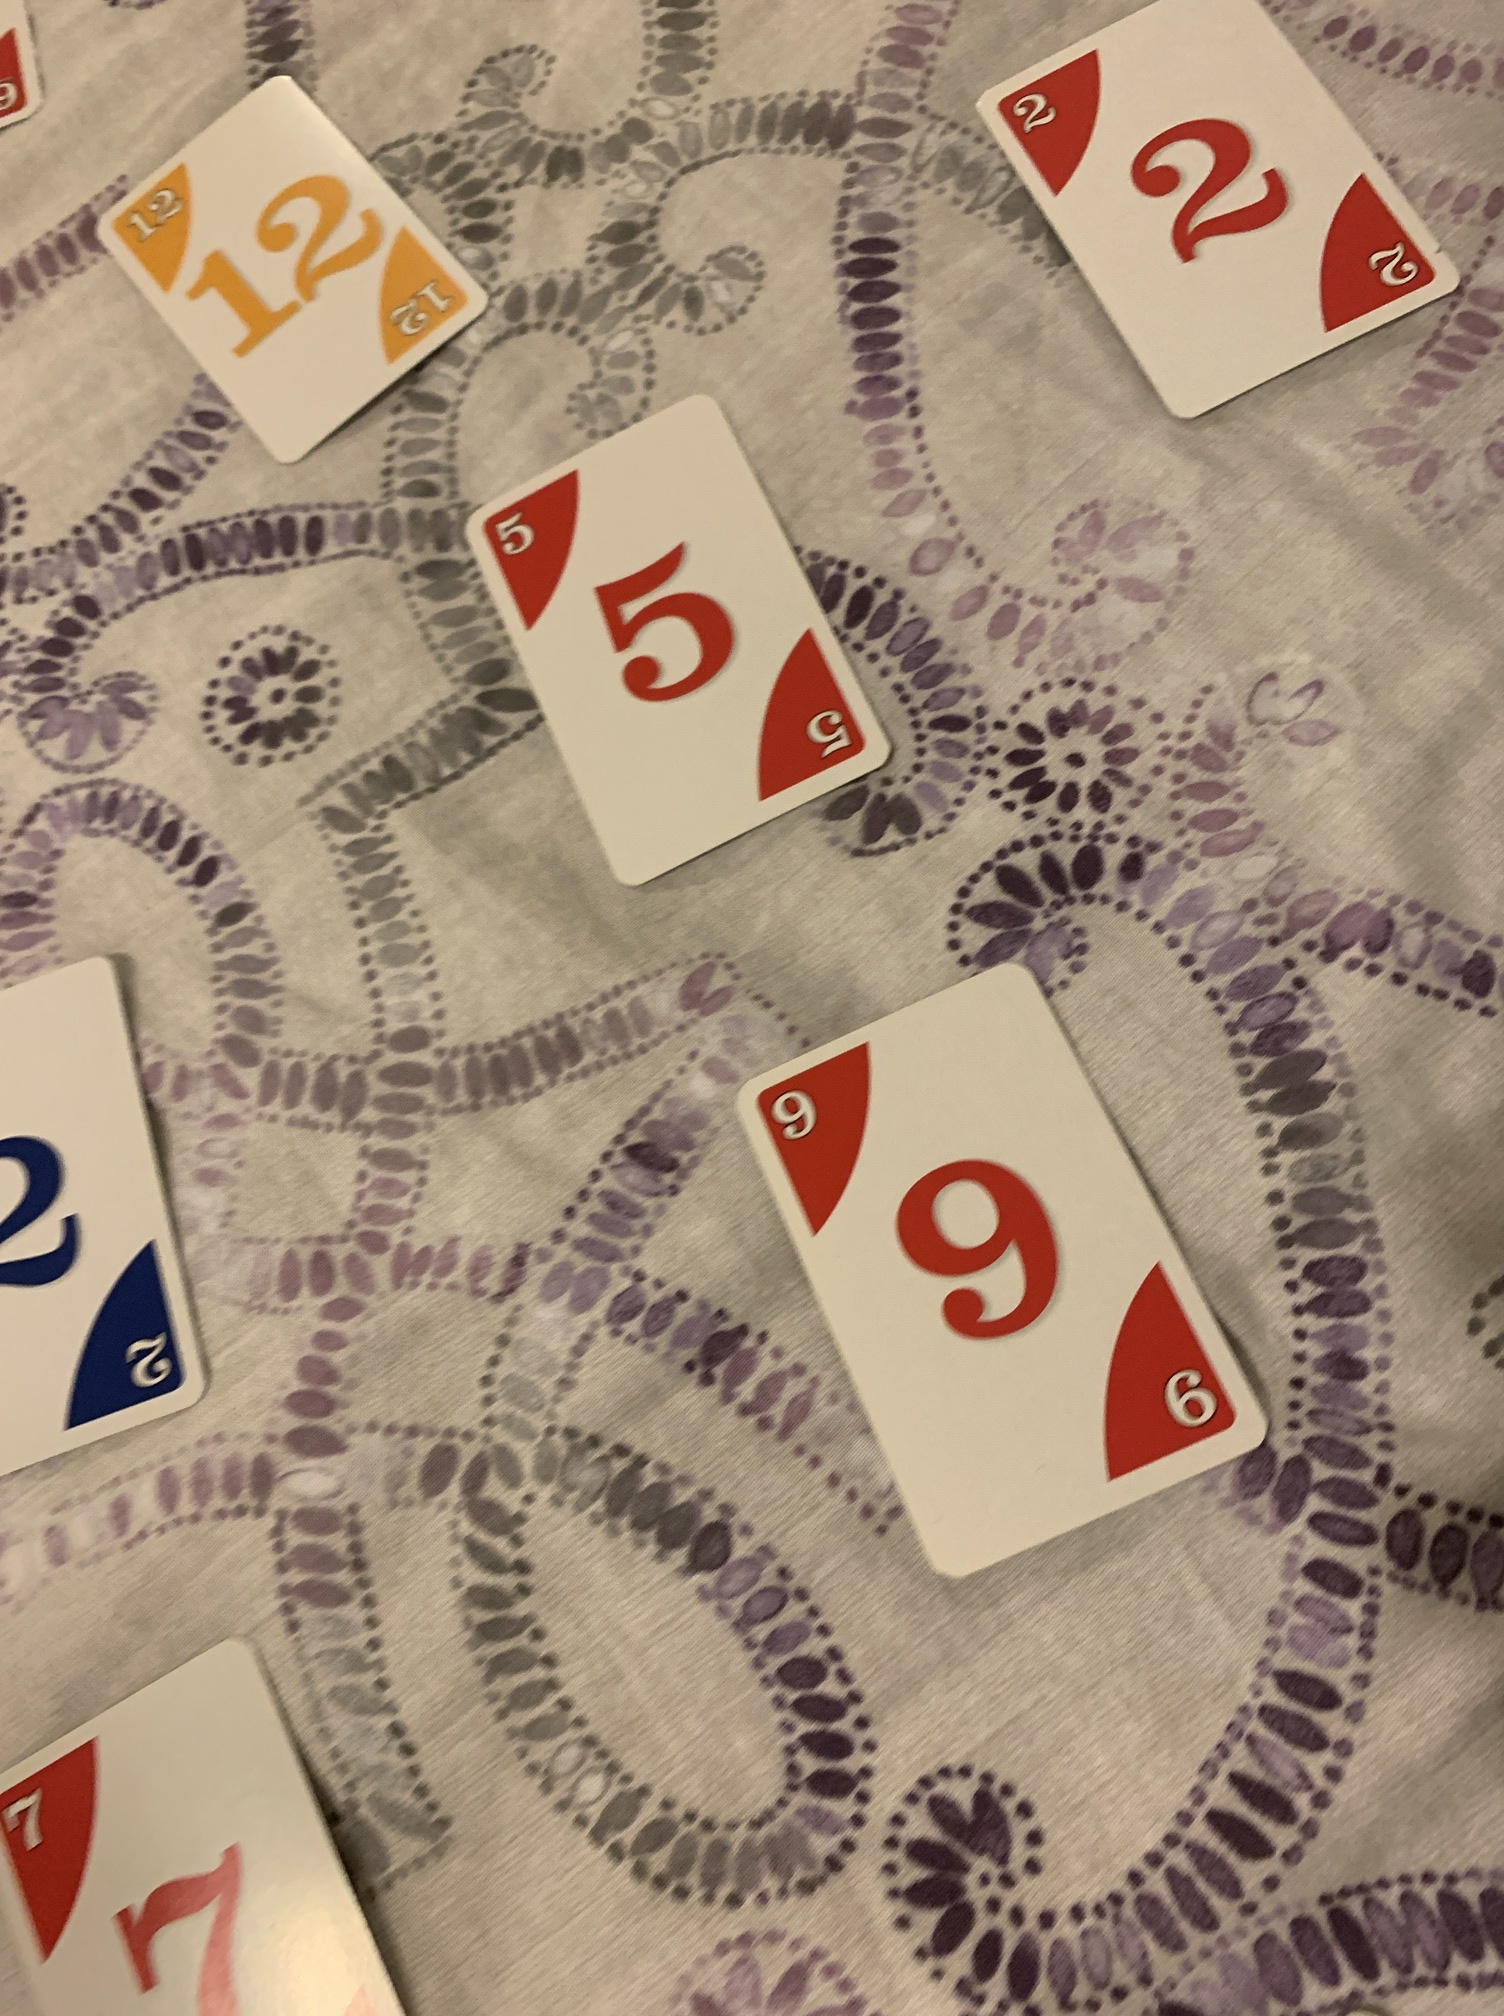five: (461, 390, 897, 890)
nine: (746, 954, 1273, 1585)
seven: (3, 1640, 404, 2016)
twelve: (87, 74, 490, 472)
two: (967, 2, 1477, 431)
